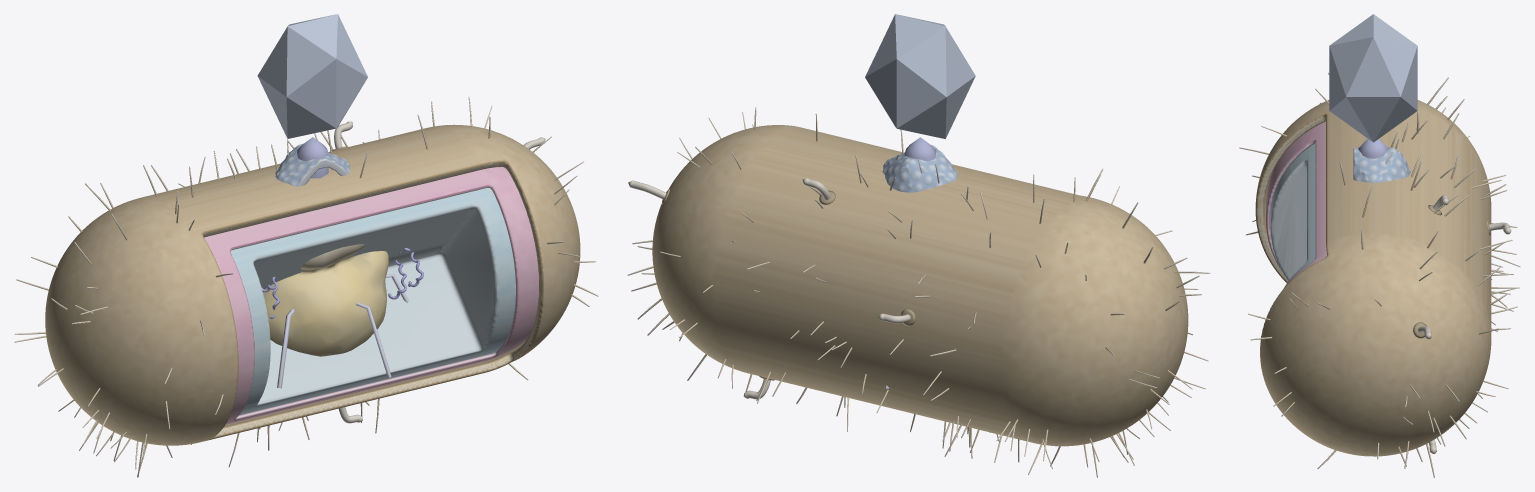
Rendered from microbes.glb.
The picture shows the model from 3 angles, left to right: view 1: azimuth 30°, elevation 25°; view 2: azimuth 150°, elevation 25°; view 3: azimuth 270°, elevation 25°; orthographic projection. The views are drawn at different scales.
Visible parts, largest first — view 1: wall, cytoplasm, membrane, phageLow, ribosome, pili, phageHead, flagellaHooks, nucleoid; view 2: wall, phageLow, pili, phageHead, flagellaHooks; view 3: wall, phageLow, cytoplasm, pili, membrane, phageHead, flagellaHooks.
Boxes of the visible parts, x1,y1,x2,y2 form: wall: (45, 124, 580, 445); cytoplasm: (231, 188, 515, 415); membrane: (204, 167, 538, 424); phageLow: (257, 14, 408, 388); ribosome: (263, 244, 388, 356); pili: (14, 97, 598, 477); phageHead: (275, 143, 350, 186); flagellaHooks: (332, 121, 545, 423); nucleoid: (262, 248, 423, 318); wall: (652, 125, 1188, 446); phageLow: (865, 14, 975, 388); pili: (627, 107, 1210, 477); phageHead: (882, 145, 957, 192); flagellaHooks: (628, 178, 915, 399); wall: (1255, 100, 1491, 456); phageLow: (1329, 14, 1417, 158); cytoplasm: (1270, 143, 1315, 287); pili: (1239, 72, 1520, 477); membrane: (1266, 121, 1326, 287); phageHead: (1353, 147, 1410, 182); flagellaHooks: (1413, 195, 1511, 453).
Size of the model in its own units: 4.94 by 3.61 by 2.39.
